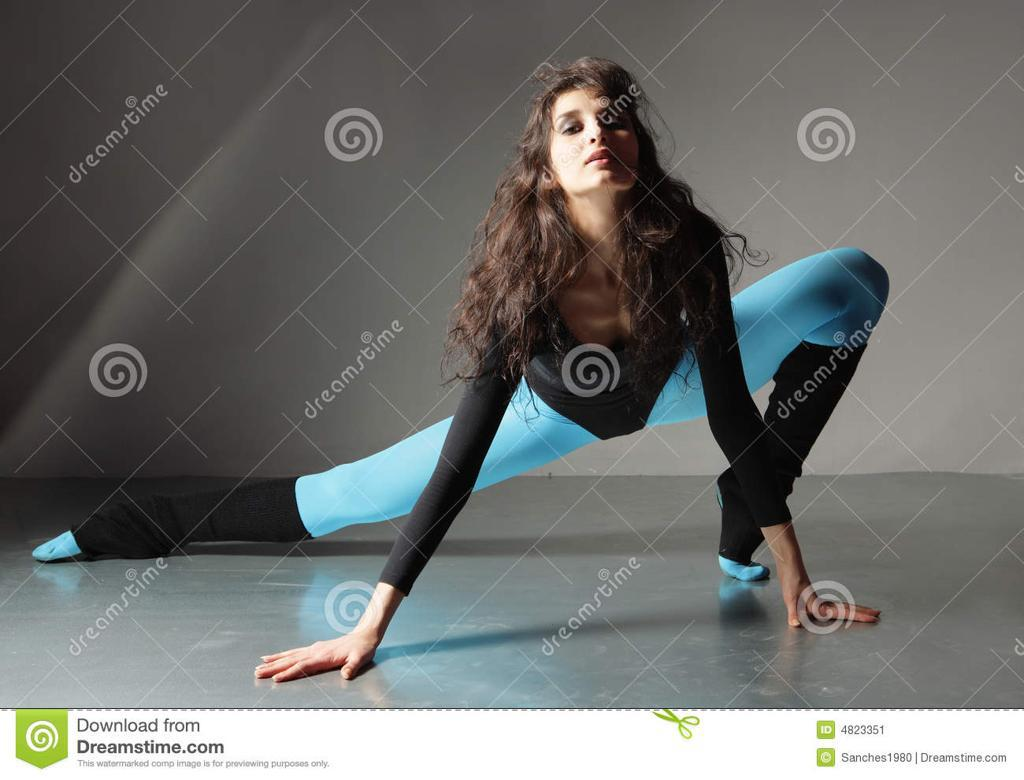face: (553, 85, 641, 195)
